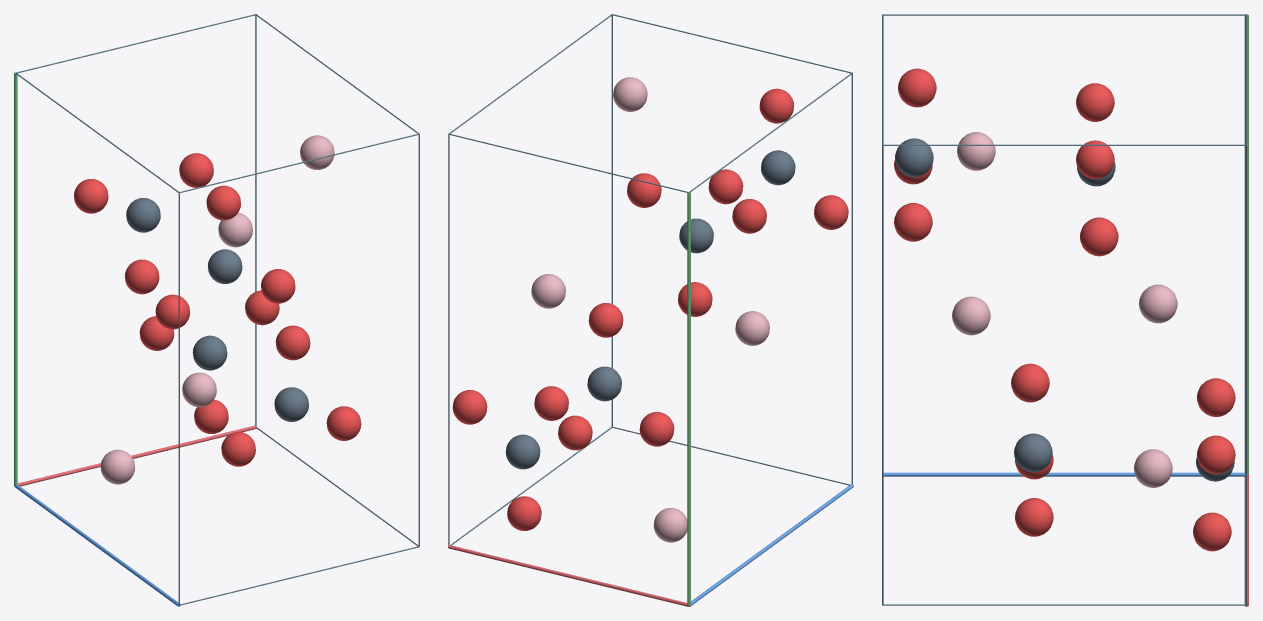
Rendered from chat-strontianite.glb.
3 renders of one model, left to right at view 1: azimuth 30°, elevation 25°; view 2: azimuth 150°, elevation 25°; view 3: azimuth 270°, elevation 25°, orthographic. The views are drawn at different scales.
Parts seen in each view (by area): view 1: Ô mạng và các trục a, b, c, O2 · O · 1 (×8), C · C · 1 (×4), O1 · O · 1 (×4), Sr · Sr · 1 (×4); view 2: Ô mạng và các trục a, b, c, O2 · O · 1 (×8), Sr · Sr · 1 (×4), C · C · 1 (×4), O1 · O · 1 (×4); view 3: Ô mạng và các trục a, b, c, O2 · O · 1 (×6), O1 · O · 1 (×4), Sr · Sr · 1 (×4), C · C · 1 (×2).
Boxes of the visible parts, x1=… form: Ô mạng và các trục a, b, c: x1=14, y1=14, x2=419, y2=606; O2 · O · 1 (×8): x1=74, y1=153, x2=361, y2=466; C · C · 1 (×4): x1=126, y1=198, x2=308, y2=421; O1 · O · 1 (×4): x1=125, y1=185, x2=310, y2=433; Sr · Sr · 1 (×4): x1=100, y1=135, x2=334, y2=484; Ô mạng và các trục a, b, c: x1=448, y1=14, x2=853, y2=606; O2 · O · 1 (×8): x1=452, y1=169, x2=848, y2=450; Sr · Sr · 1 (×4): x1=531, y1=77, x2=769, y2=542; C · C · 1 (×4): x1=505, y1=150, x2=795, y2=469; O1 · O · 1 (×4): x1=507, y1=88, x2=794, y2=530; Ô mạng và các trục a, b, c: x1=882, y1=14, x2=1248, y2=606; O2 · O · 1 (×6): x1=894, y1=83, x2=1235, y2=536; O1 · O · 1 (×4): x1=898, y1=68, x2=1231, y2=551; Sr · Sr · 1 (×4): x1=952, y1=132, x2=1177, y2=487; C · C · 1 (×2): x1=895, y1=138, x2=1052, y2=472.
Bounding box in the file's own units: 5.42 × 8.41 × 6.04.
